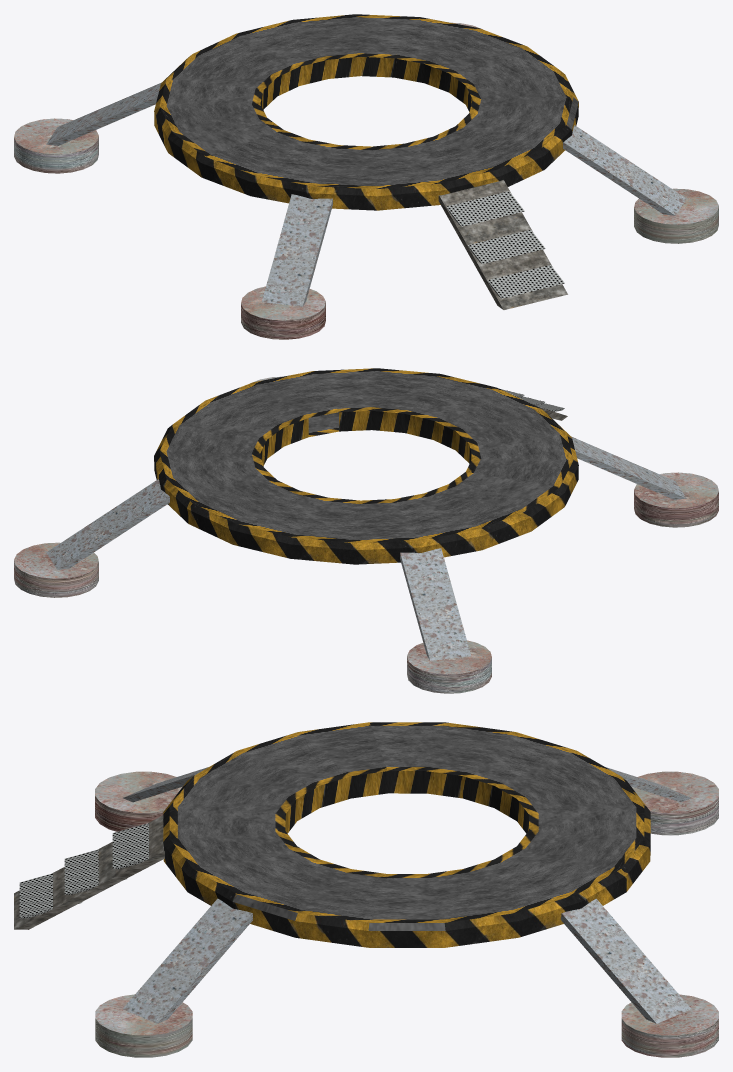
The model's file is landingpad.fbx.
3 renders of one model, top to bottom at view 1: azimuth 30°, elevation 25°; view 2: azimuth 150°, elevation 25°; view 3: azimuth 270°, elevation 25°, orthographic. The views are drawn at different scales.
Visible parts, largest first — view 1: Pad1, Poot_1, Oploopding, Poot_2, Pootbedek_4, Pootbedek_2, Pootbedek_1, Poot_4, Antislip1, Antislip2, Antislip3; view 2: Pad1, Poot_4, Poot_3, Pootbedek_1, Pootbedek_3, Pootbedek_4, Poot_1; view 3: Pad1, Poot_3, Poot_2, Pootbedek_3, Pootbedek_2, Pootbedek_4, Pootbedek_1, Oploopding, Antislip1, Antislip2, Antislip3, Poot_1 (+1 smaller).
Boxes of the visible parts, bbox=[...] form: Pad1: bbox=[154, 14, 578, 210]; Poot_1: bbox=[262, 194, 332, 306]; Oploopding: bbox=[438, 180, 567, 309]; Poot_2: bbox=[563, 125, 686, 215]; Pootbedek_4: bbox=[14, 118, 98, 173]; Pootbedek_2: bbox=[634, 188, 718, 243]; Pootbedek_1: bbox=[241, 286, 325, 339]; Poot_4: bbox=[46, 82, 161, 145]; Antislip1: bbox=[446, 191, 524, 226]; Antislip2: bbox=[468, 230, 545, 263]; Antislip3: bbox=[488, 265, 564, 298]; Pad1: bbox=[154, 368, 578, 564]; Poot_4: bbox=[400, 548, 470, 660]; Poot_3: bbox=[46, 479, 169, 569]; Pootbedek_1: bbox=[634, 472, 718, 527]; Pootbedek_3: bbox=[14, 542, 98, 597]; Pootbedek_4: bbox=[407, 640, 491, 693]; Poot_1: bbox=[571, 436, 686, 499]; Pad1: bbox=[163, 722, 650, 947]; Poot_3: bbox=[561, 898, 691, 1023]; Poot_2: bbox=[123, 898, 252, 1023]; Pootbedek_3: bbox=[621, 994, 718, 1057]; Pootbedek_2: bbox=[95, 994, 192, 1057]; Pootbedek_4: bbox=[631, 771, 718, 835]; Pootbedek_1: bbox=[95, 771, 182, 831]; Oploopding: bbox=[14, 815, 164, 929]; Antislip1: bbox=[112, 823, 148, 868]; Antislip2: bbox=[64, 849, 127, 894]; Antislip3: bbox=[19, 873, 82, 918]; Poot_1: bbox=[123, 767, 208, 802].
Bounding box in the file's own units: 126 × 23.12 × 143.
5 materials, 5 textured.
